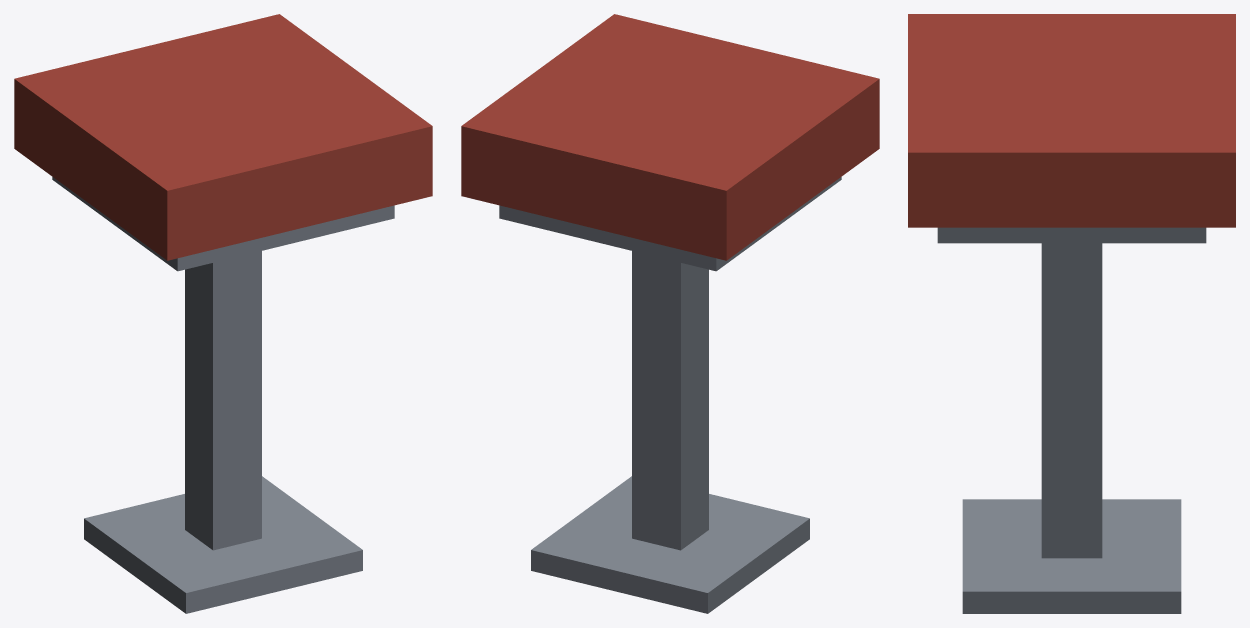
The model's file is AI_Prop_Bar_Stool.fbx.
The picture shows the model from 3 angles, left to right: view 1: azimuth 30°, elevation 25°; view 2: azimuth 150°, elevation 25°; view 3: azimuth 270°, elevation 25°; orthographic projection. The views are drawn at different scales.
Visible parts, largest first — view 1: AI_Prop_Bar_Stool; view 2: AI_Prop_Bar_Stool; view 3: AI_Prop_Bar_Stool.
Boxes of the visible parts, left/top/right/bottom form: AI_Prop_Bar_Stool: left=14, top=14, right=432, bottom=613; AI_Prop_Bar_Stool: left=461, top=14, right=879, bottom=613; AI_Prop_Bar_Stool: left=908, top=14, right=1235, bottom=613.
Bounding box in the file's own units: 0.7004 × 1.14 × 0.7004.
